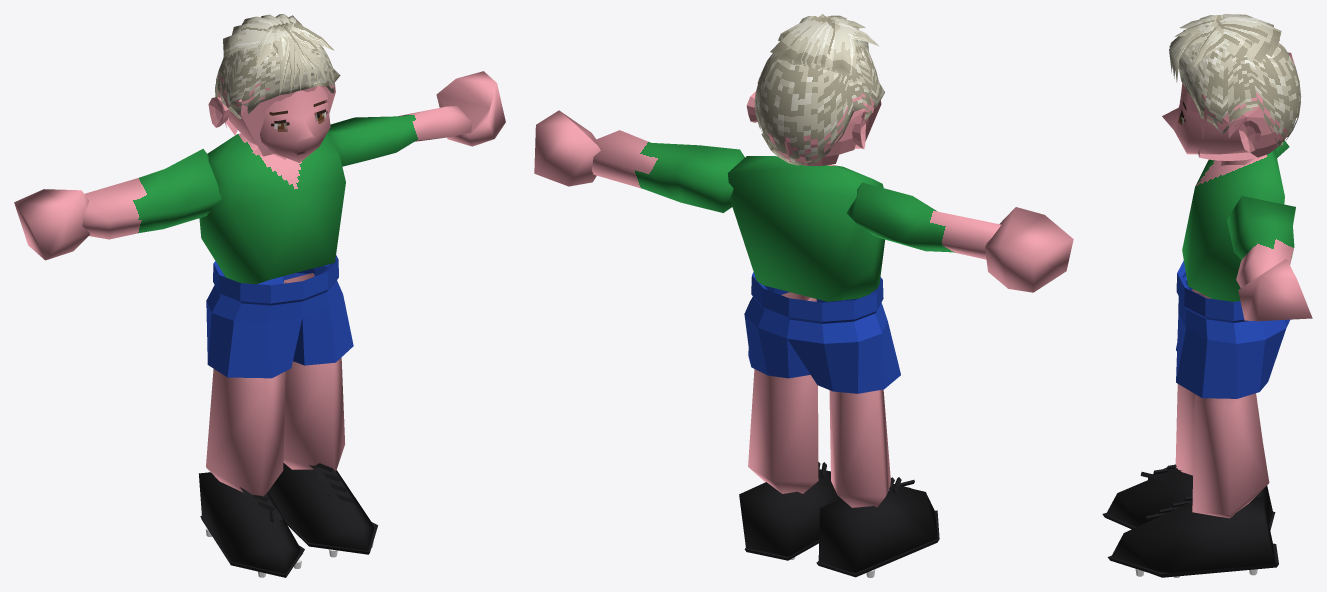
The model's file is 02-jogador-degrade_loiro-pintado.glb.
3 renders of one model, left to right at view 1: azimuth 30°, elevation 25°; view 2: azimuth 150°, elevation 25°; view 3: azimuth 270°, elevation 25°, orthographic. The views are drawn at different scales.
Visible parts, largest first — view 1: Camisa_Tronco, Bermuda, Perna.R, Cabelo, Braco.R, Perna.L, Chuteira.R, Chuteira.L, Braco.L, Mao.R, Cabeca, Mao.L (+4 smaller); view 2: Camisa_Tronco, Cabelo, Bermuda, Perna.L, Braco.L, Chuteira.R, Perna.R, Braco.R, Mao.R, Chuteira.L, Mao.L, Cranio (+1 smaller); view 3: Cabelo, Bermuda, Chuteira.L, Camisa_Tronco, Perna.L, Braco.L, Mao.L, Chuteira.R, Cabeca, Cranio, Perna.R, Chuteira_Sola.L (+3 smaller).
Boxes of the visible parts, x1,y1,x2,y2 form: Camisa_Tronco: (199, 133, 345, 284); Bermuda: (206, 255, 353, 378); Perna.R: (206, 369, 285, 500); Cabelo: (215, 14, 340, 119); Braco.R: (82, 148, 221, 239); Perna.L: (283, 273, 344, 471); Chuteira.R: (198, 472, 302, 573); Chuteira.L: (268, 463, 373, 550); Braco.L: (327, 106, 472, 166); Mao.R: (14, 189, 89, 260); Cabeca: (228, 86, 330, 162); Mao.L: (436, 71, 505, 146); Camisa_Tronco: (727, 156, 884, 301); Cabelo: (754, 14, 884, 165); Bermuda: (744, 272, 900, 393); Perna.L: (748, 292, 818, 493); Braco.L: (592, 130, 744, 212); Chuteira.R: (818, 484, 937, 572); Perna.R: (829, 389, 890, 507); Braco.R: (846, 182, 1001, 259); Mao.R: (985, 207, 1073, 292); Chuteira.L: (739, 469, 840, 556); Mao.L: (534, 110, 600, 186); Cranio: (768, 93, 881, 165); Cabelo: (1169, 14, 1301, 146); Bermuda: (1176, 260, 1289, 398); Chuteira.L: (1111, 497, 1276, 577); Camisa_Tronco: (1182, 149, 1284, 301); Perna.L: (1192, 393, 1269, 518); Braco.L: (1227, 196, 1295, 287); Mao.L: (1238, 258, 1312, 321); Chuteira.R: (1106, 468, 1272, 527); Cabeca: (1162, 83, 1248, 154); Cranio: (1198, 92, 1287, 160); Perna.R: (1175, 289, 1261, 475); Chuteira_Sola.L: (1107, 543, 1278, 577).
Size of the model in its own units: 0.4523 by 0.4516 by 0.1617.
3 materials, 3 textured.
